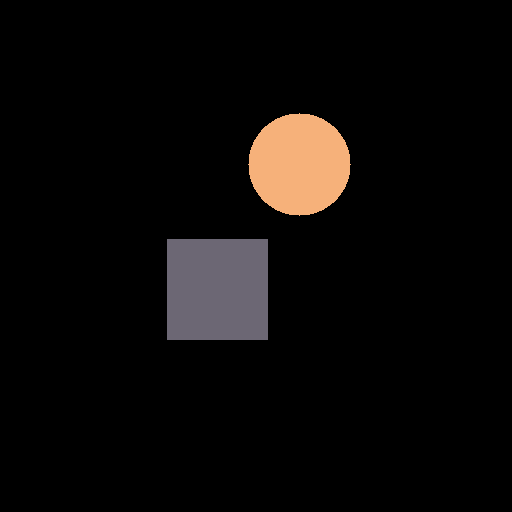circle: (248, 113, 350, 215)
square: (167, 239, 267, 339)
